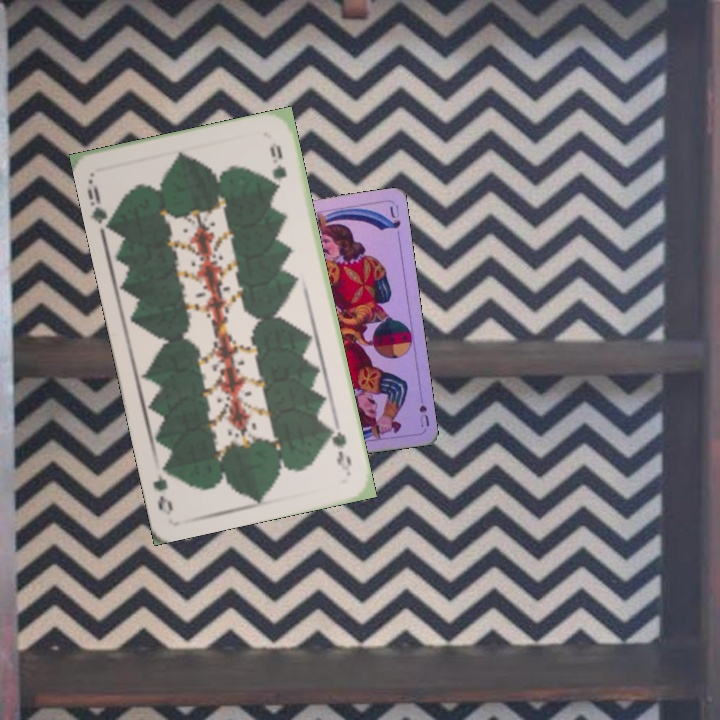G9: (83, 175, 117, 232), (325, 420, 354, 476)
SU: (415, 389, 432, 430)
